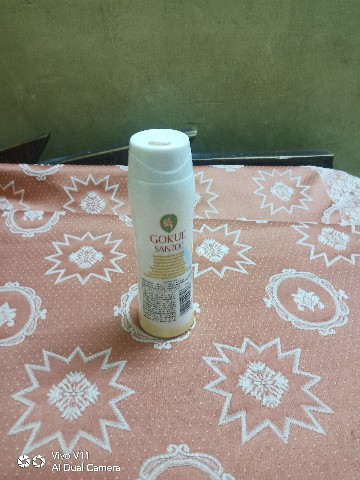gokulsantol big: (109, 120, 223, 363)
